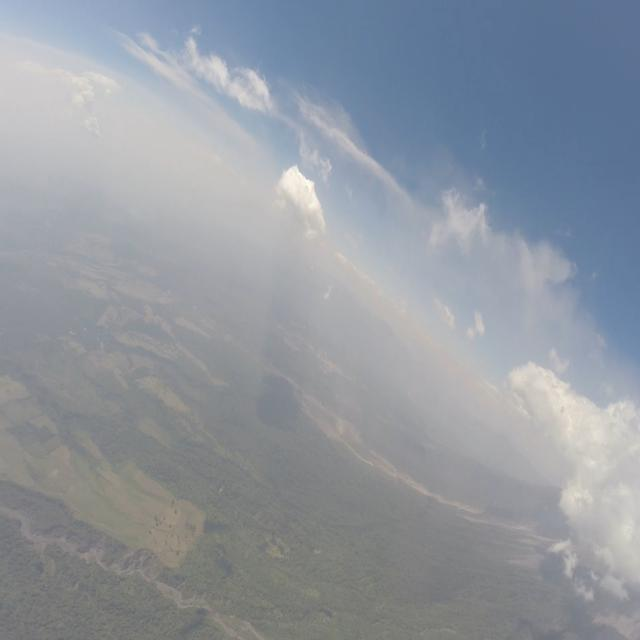Plume: (273, 156, 330, 243)
